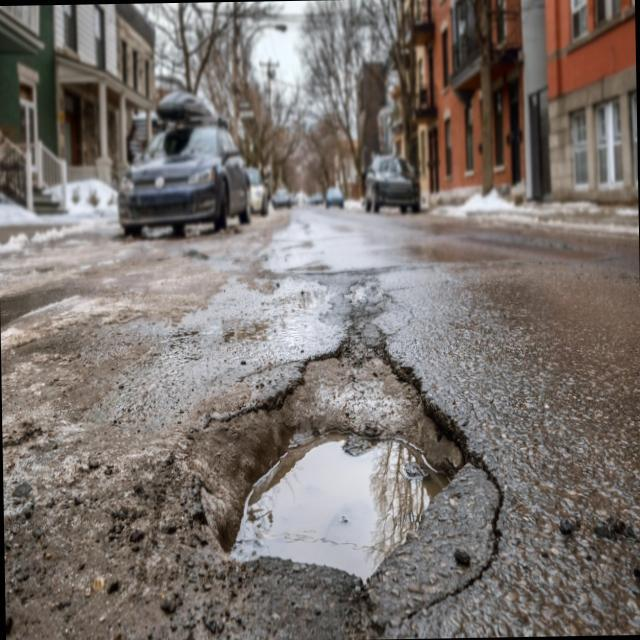Pothole: (188, 280, 482, 600)
